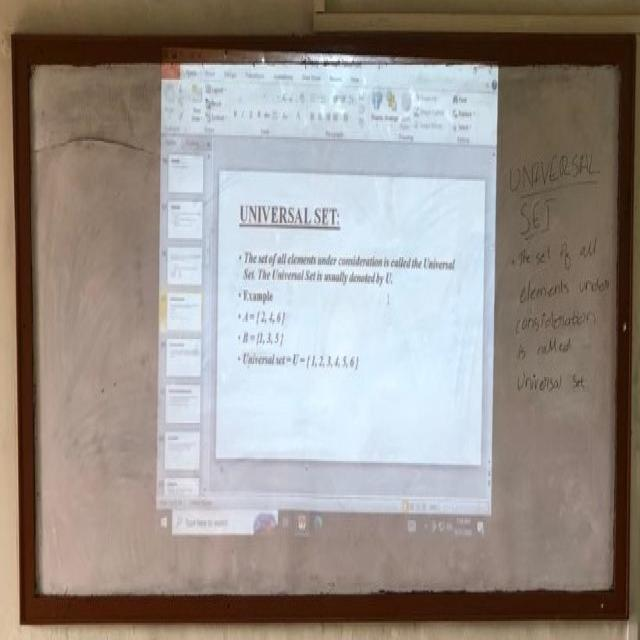Slide: (154, 45, 501, 554)
White-board: (16, 47, 631, 614)
